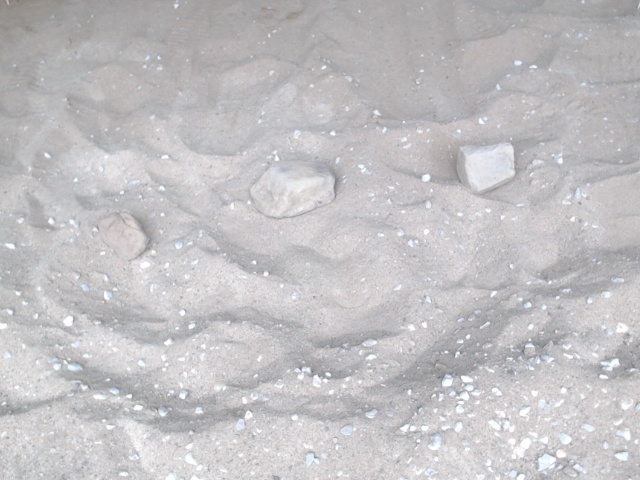rock: (245, 153, 340, 223), (452, 137, 520, 198), (95, 208, 153, 265)
